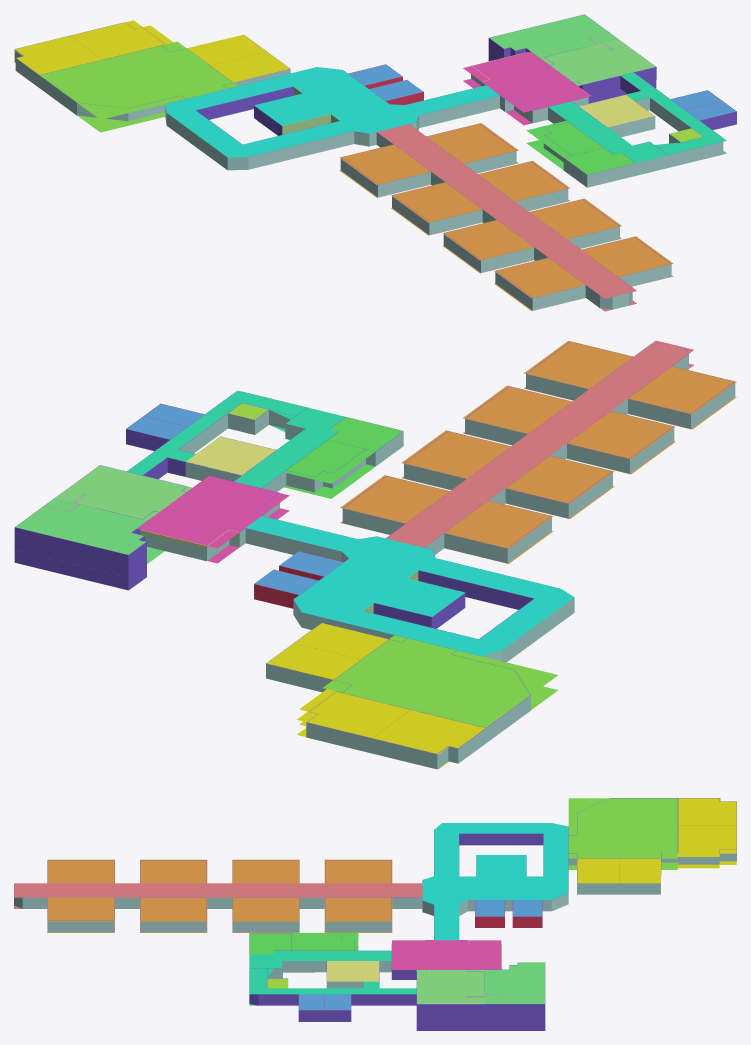
The model's file is Hospital_SecondFloor.fbx.
The picture shows the model from 3 angles, top to bottom: view 1: azimuth 30°, elevation 25°; view 2: azimuth 150°, elevation 25°; view 3: azimuth 270°, elevation 25°; orthographic projection. The views are drawn at different scales.
Parts seen in each view (by area): view 1: Ceiling, Wall, Floor; view 2: Ceiling, Wall, Floor; view 3: Ceiling, Wall, Floor.
Boxes of the visible parts, bbox=[...] form: Ceiling: bbox=[14, 14, 735, 298]; Wall: bbox=[14, 14, 736, 310]; Floor: bbox=[14, 62, 726, 311]; Ceiling: bbox=[15, 340, 736, 754]; Wall: bbox=[14, 341, 735, 769]; Floor: bbox=[14, 363, 736, 769]; Ceiling: bbox=[14, 798, 736, 1010]; Wall: bbox=[14, 798, 736, 1030]; Floor: bbox=[14, 861, 736, 1005].
Bounding box in the file's own units: 11970 × 700 × 17211.
